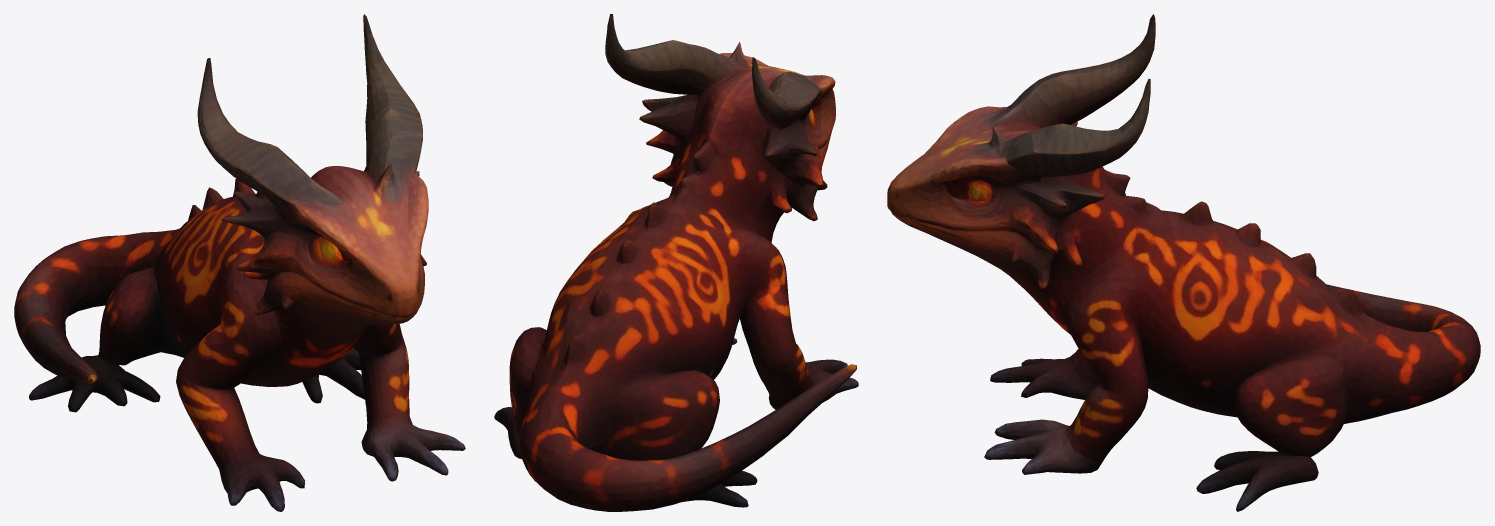
The model's file is kertenkele.glb.
3 renders of one model, left to right at view 1: azimuth 30°, elevation 25°; view 2: azimuth 150°, elevation 25°; view 3: azimuth 270°, elevation 25°, orthographic. The views are drawn at different scales.
Parts seen in each view (by area): view 1: kertenkele; view 2: kertenkele; view 3: kertenkele.
Boxes of the visible parts, x1,y1,x2,y2 form: kertenkele: [14, 14, 465, 511]; kertenkele: [494, 14, 858, 511]; kertenkele: [887, 14, 1480, 511].
Size of the model in its own units: 64.07 by 73.88 by 99.92.
1 material, 1 textured.
